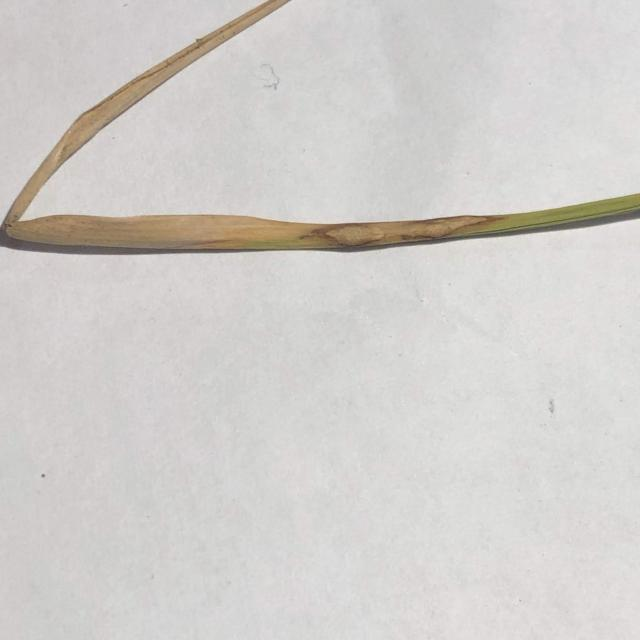Blast: (318, 226, 382, 244), (393, 222, 433, 241)
